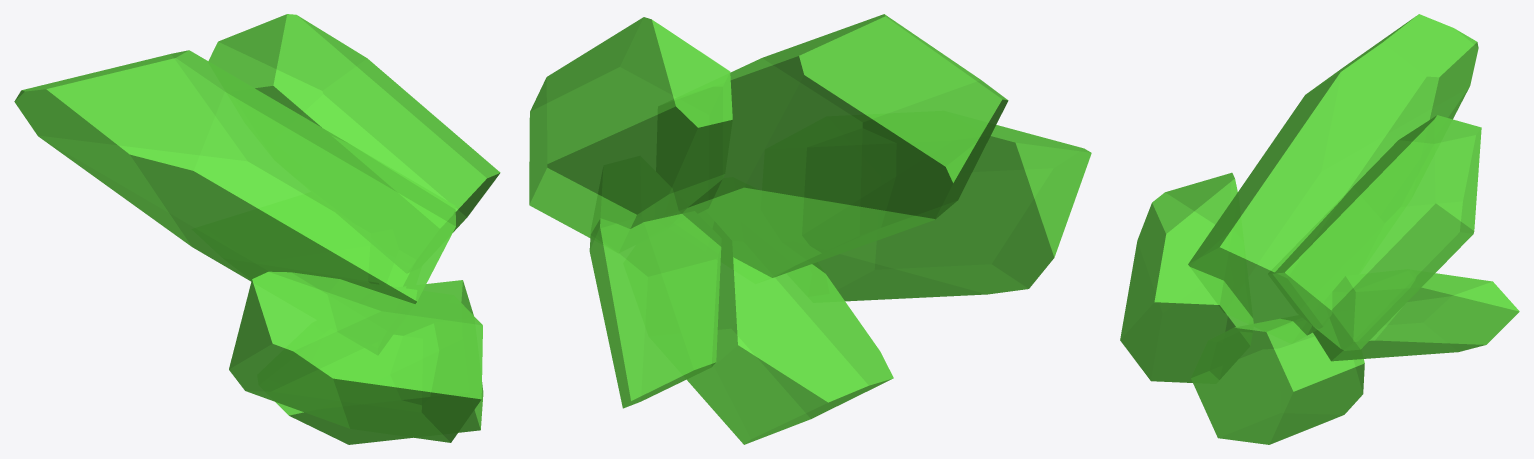
The model's file is definity.crystal_rock_crystal_rightbottom.glb.
3 views of the same model, side by side, from view 1: azimuth 30°, elevation 25°; view 2: azimuth 150°, elevation 25°; view 3: azimuth 270°, elevation 25° (orthographic). The views are drawn at different scales.
Parts seen in each view (by area): view 1: Cylinder.005, Cylinder.015, Cylinder.014, Cylinder.016, Cylinder.017; view 2: Cylinder.005, Cylinder.014, Cylinder.015, Cylinder.016, Cylinder.017; view 3: Cylinder.005, Cylinder.014, Cylinder.015, Cylinder.016, Cylinder.017.
Boxes of the visible parts, x1,y1,x2,y2 form: Cylinder.005: (14,50,455,354); Cylinder.015: (229,271,482,442); Cylinder.014: (208,14,500,272); Cylinder.016: (275,280,483,444); Cylinder.017: (368,244,393,284); Cylinder.005: (656,14,1008,283); Cylinder.014: (529,17,732,252); Cylinder.015: (787,125,1091,301); Cylinder.016: (686,221,893,444); Cylinder.017: (589,156,721,408); Cylinder.005: (1188,14,1478,343); Cylinder.014: (1268,115,1481,350); Cylinder.015: (1120,172,1253,382); Cylinder.016: (1191,315,1364,444); Cylinder.017: (1313,269,1519,361).
Size of the model in its own units: 1.98 by 1.73 by 1.95.
